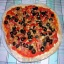olive: (21, 42, 37, 54), (38, 25, 50, 35), (4, 13, 13, 24), (26, 31, 35, 41), (10, 26, 17, 38), (45, 36, 54, 45), (17, 17, 26, 26), (17, 29, 25, 36), (40, 45, 46, 52), (16, 6, 20, 11)
pizza: (1, 5, 61, 60)
